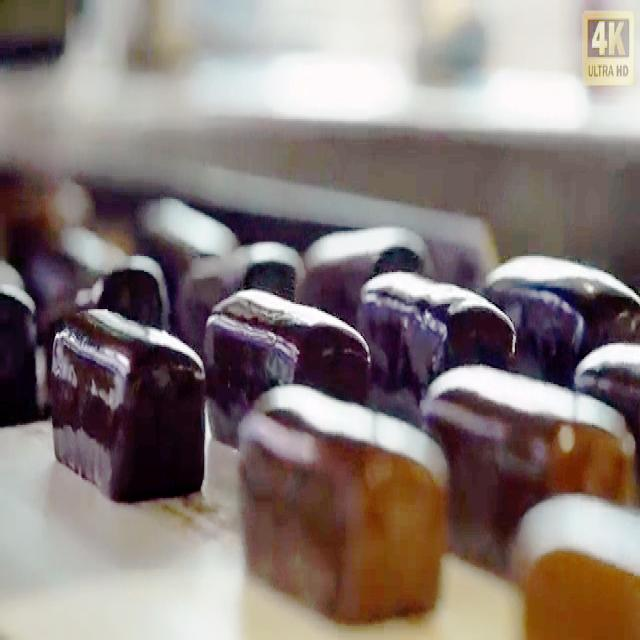Choco: (235, 379, 450, 622), (422, 350, 634, 568), (48, 301, 207, 503), (202, 281, 372, 443), (482, 242, 640, 397), (357, 263, 517, 389)
